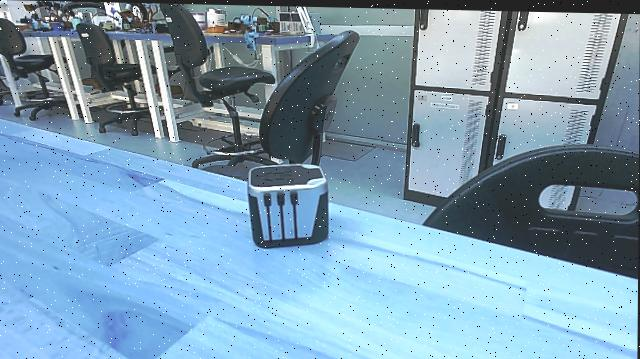adapter: (238, 157, 334, 253)
